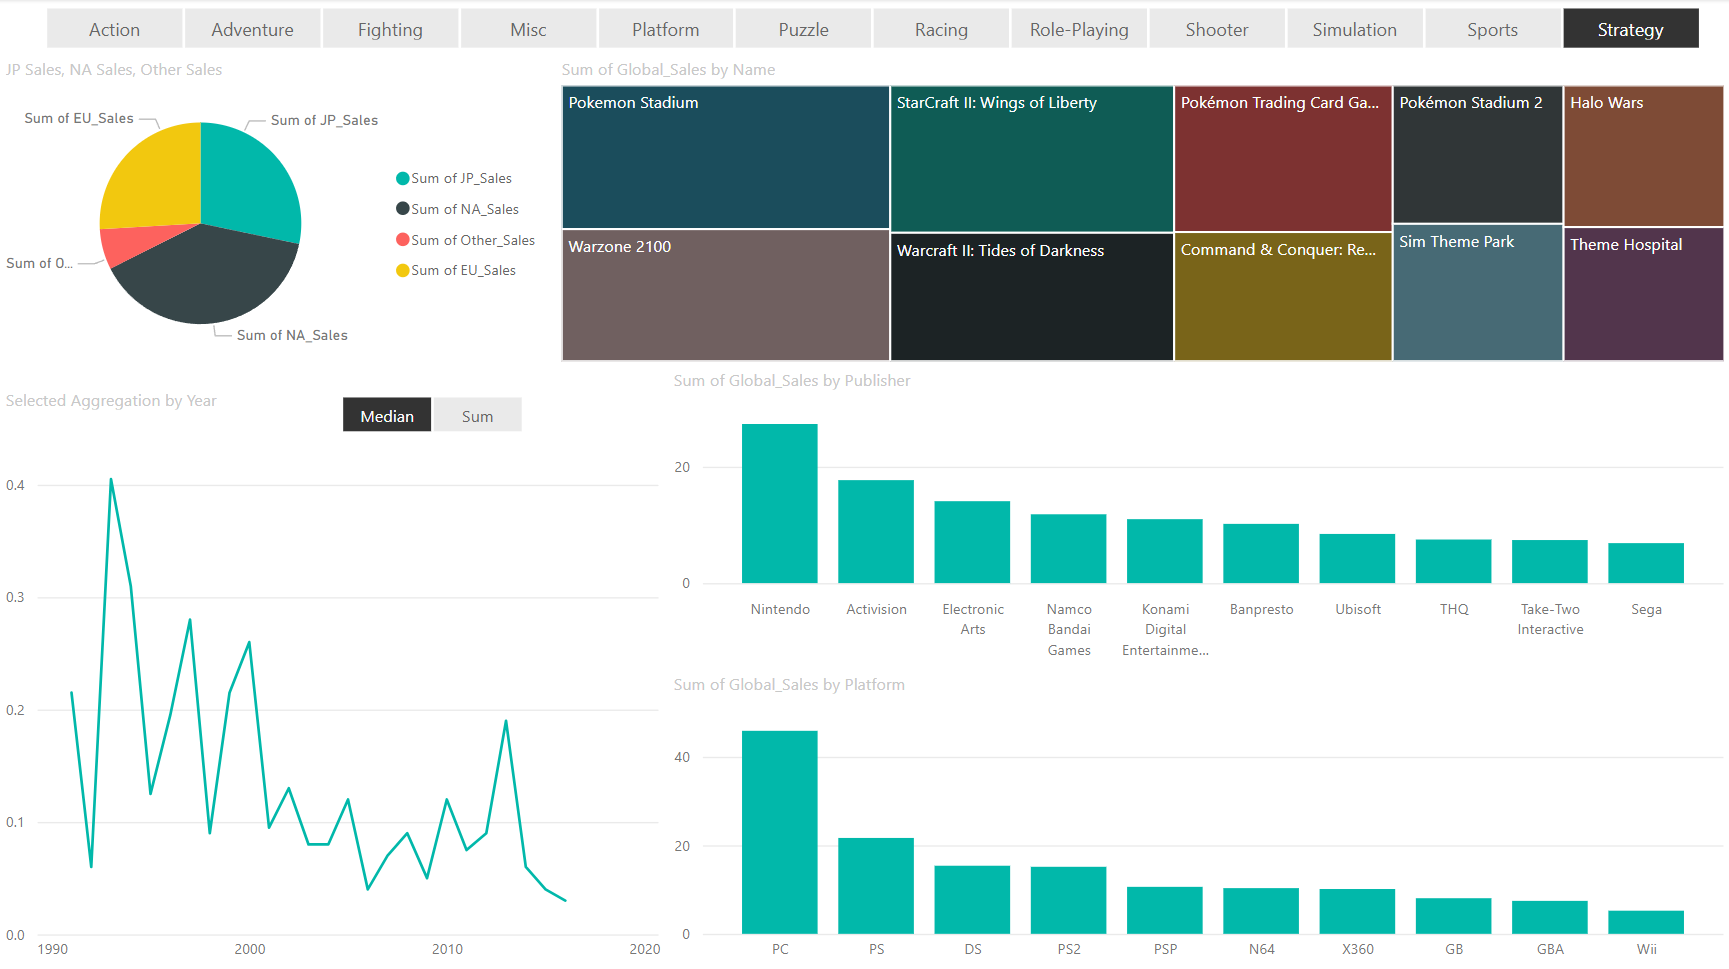

What the dashboard file says about the page in this screenshot:
{"tool":"powerbi","page":{"name":"Page 1","canvas":[1280,720],"ordinal":0},"visuals":[{"type":"slicer","fields":{"Values":["data.Genre"]},"box":[9.8,0,1270.5,42.8],"z":0},{"type":"pieChart","title":"JP Sales, NA Sales, Other Sales","fields":{"Y":["Sum(data.JP_Sales)","Sum(data.NA_Sales)","Sum(data.Other_Sales)","Sum(data.EU_Sales)"]},"box":[0,42.8,410.9,229.9],"z":1000},{"type":"lineChart","fields":{"Category":["data.Year"],"Y":["Aggregation Selection.Selected Aggregation"]},"box":[0,287.4,494,432.9],"z":2000},{"type":"slicer","fields":{"Values":["Aggregation Selection.Aggregation"]},"box":[228.7,287.4,182.2,39.1],"z":3000},{"type":"lineClusteredColumnComboChart","fields":{"Category":["data.Publisher"],"Y":["Sum(data.Global_Sales)"]},"box":[494,272.7,786.3,223],"z":3001},{"type":"lineClusteredColumnComboChart","fields":{"Category":["data.Platform"],"Y":["Sum(data.Global_Sales)"]},"box":[494,497.7,786.3,222.6],"z":3002},{"type":"treemap","fields":{"Group":["data.Name"],"Values":["Sum(data.Global_Sales)"]},"box":[410.9,42.8,869.4,229.9],"z":3003}]}

Visuals, with their boxes in screenshot pixels (x1, y1, x2, y2), scaled from the page's 1280x720 canvas onto the 1729x969 screenshot:
slicer - data.Genre: Rect(13, 0, 1728, 58)
"JP Sales, NA Sales, Other Sales" pieChart: Rect(0, 58, 555, 367)
lineChart - data.Year x Aggregation Selection.Selected Aggregation: Rect(0, 387, 667, 968)
slicer - Aggregation Selection.Aggregation: Rect(309, 387, 555, 439)
lineClusteredColumnComboChart - data.Publisher x Sum(data.Global_Sales): Rect(667, 367, 1728, 667)
lineClusteredColumnComboChart - data.Platform x Sum(data.Global_Sales): Rect(667, 670, 1728, 968)
treemap - data.Name x Sum(data.Global_Sales): Rect(555, 58, 1728, 367)
